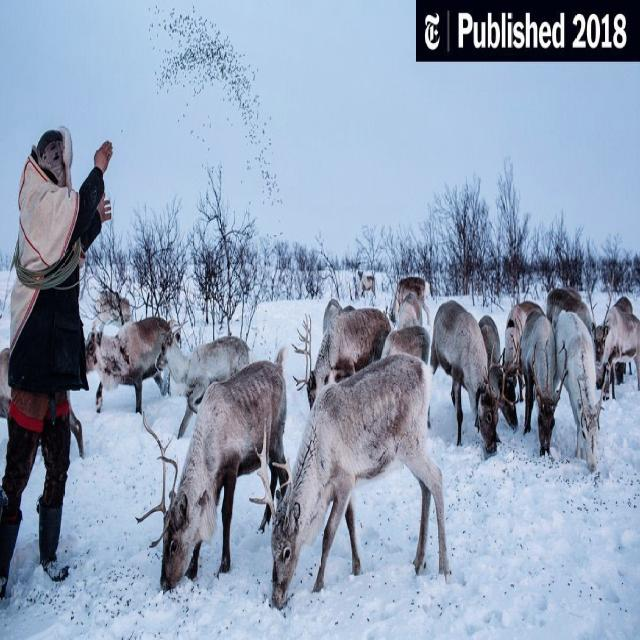reindeer: (258, 353, 447, 607), (136, 361, 284, 589), (431, 300, 502, 454), (293, 299, 391, 408), (160, 328, 253, 436), (555, 311, 610, 470), (86, 317, 171, 413), (521, 308, 563, 455), (478, 315, 517, 428)
